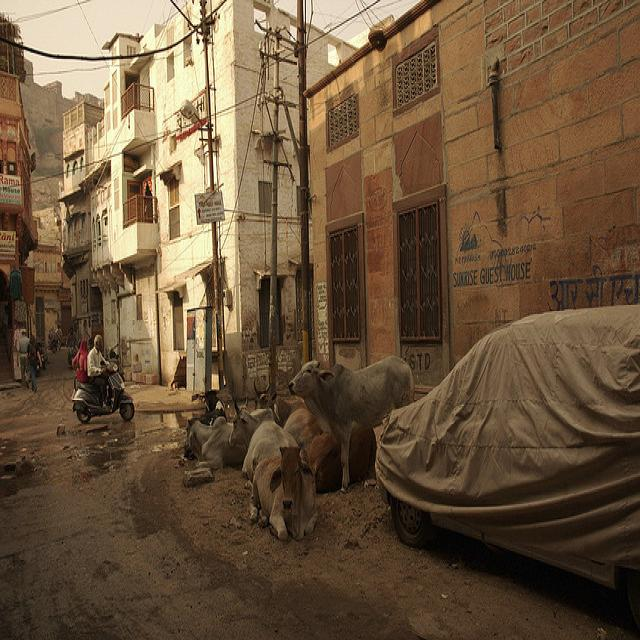motor: (71, 354, 134, 423), (67, 341, 78, 367)
